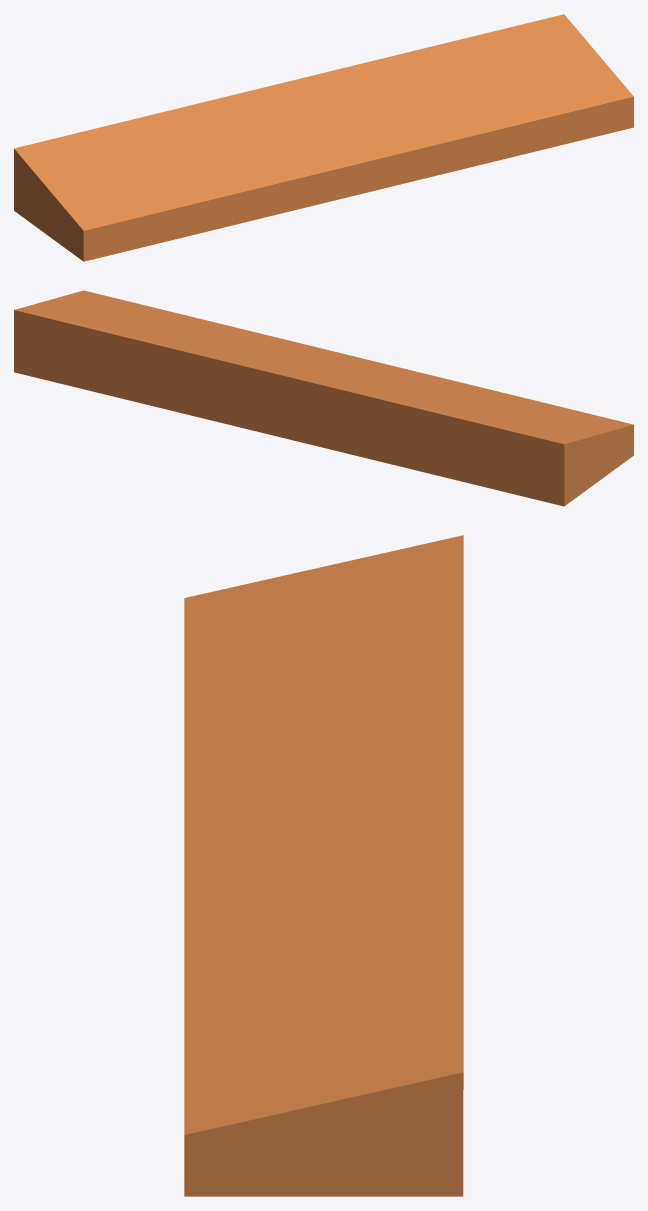
File: SP_House06_WindowSupporter01.fbx
The picture shows the model from 3 angles, top to bottom: view 1: azimuth 30°, elevation 25°; view 2: azimuth 150°, elevation 25°; view 3: azimuth 270°, elevation 25°; orthographic projection. The views are drawn at different scales.
Visible parts, largest first — view 1: SP_House06_WindowSupporter01; view 2: SP_House06_WindowSupporter01; view 3: SP_House06_WindowSupporter01.
Part boxes in pixels (bbox=[...]): SP_House06_WindowSupporter01: bbox=[14, 14, 633, 261]; SP_House06_WindowSupporter01: bbox=[14, 290, 633, 506]; SP_House06_WindowSupporter01: bbox=[184, 535, 463, 1196].
Size of the model in its own units: 0.8497 by 0.0919 by 0.1866.
